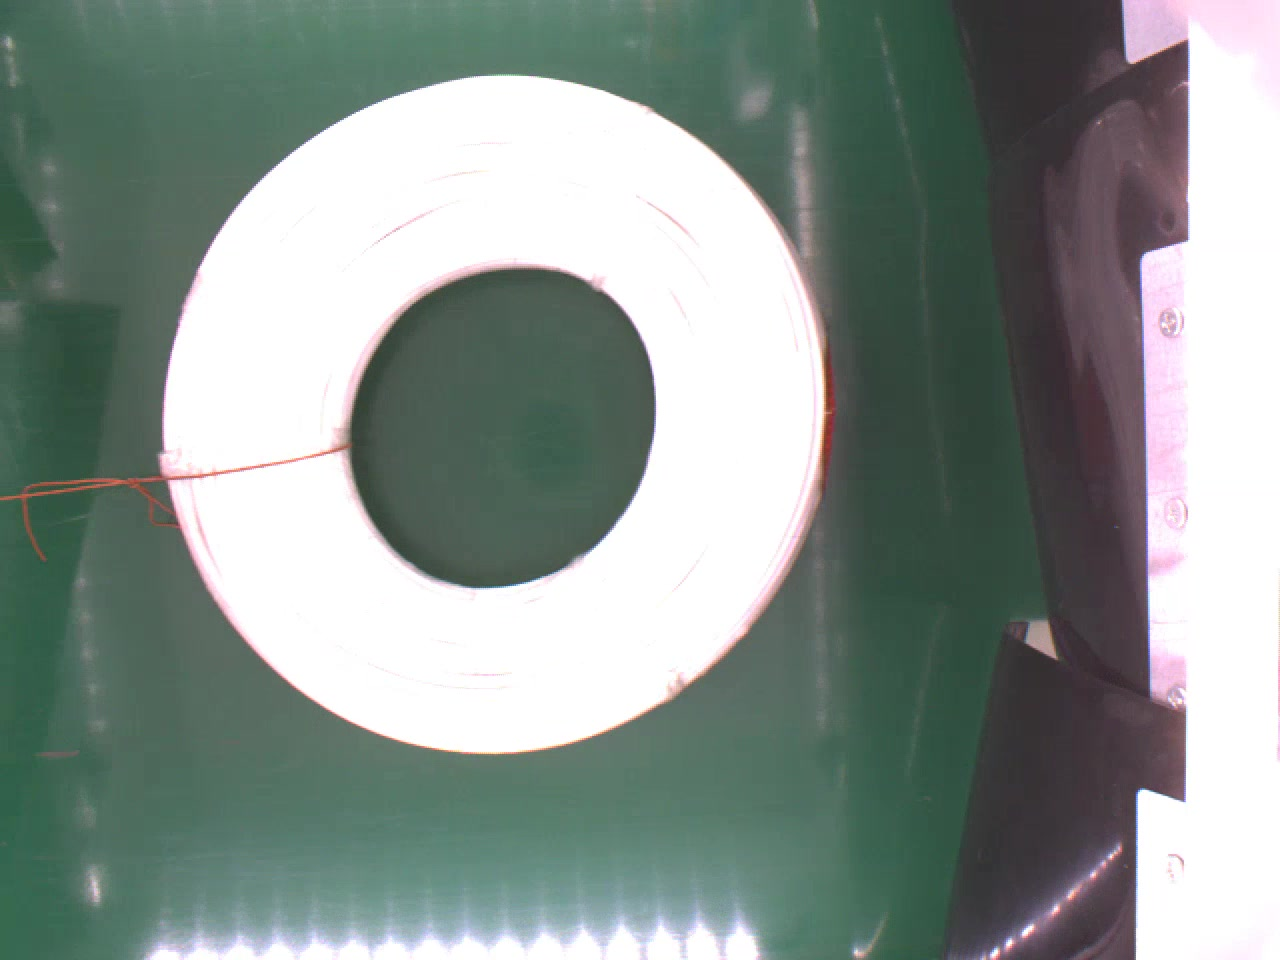white: (158, 71, 834, 753)
